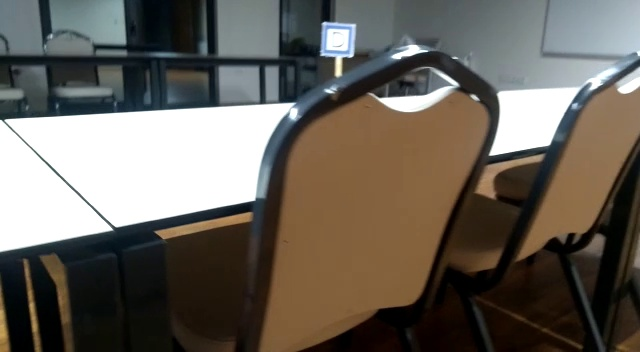durak: (322, 22, 356, 58)
